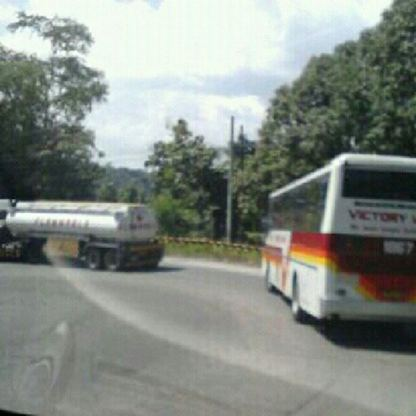bus: (259, 150, 415, 326)
